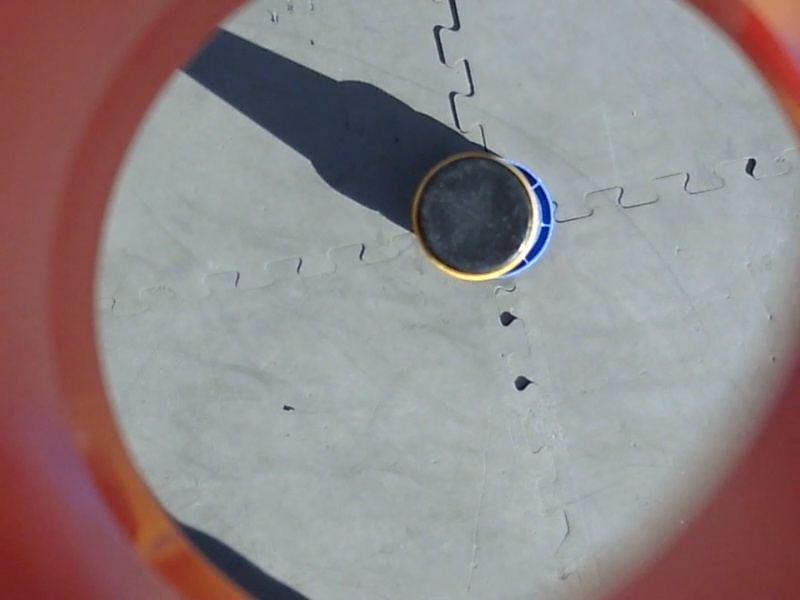tip: (405, 147, 541, 288)
